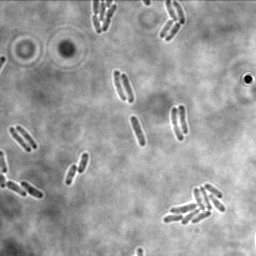Dividing: (129, 115, 147, 147), (112, 70, 128, 101), (171, 106, 185, 141)
Microcolony: (163, 183, 226, 225), (157, 1, 186, 43), (92, 1, 118, 35)
Rod: (8, 126, 33, 155), (15, 125, 39, 150), (120, 71, 137, 104), (20, 180, 45, 201), (5, 180, 26, 198), (177, 104, 189, 135), (63, 163, 79, 186), (76, 152, 90, 174)
